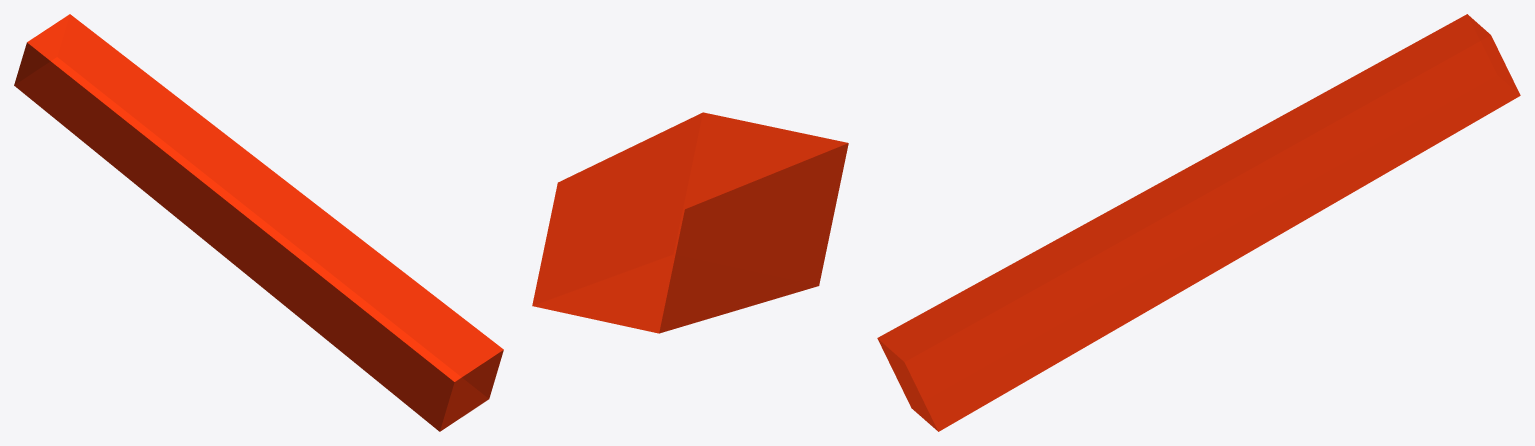
The model's file is Event_421556567_EBrechit_6.fbx.
The picture shows the model from 3 angles, left to right: view 1: azimuth 30°, elevation 25°; view 2: azimuth 150°, elevation 25°; view 3: azimuth 270°, elevation 25°; orthographic projection. The views are drawn at different scales.
Parts seen in each view (by area): view 1: Model; view 2: Model; view 3: Model.
Part boxes in pixels (bbox=[...]): Model: bbox=[14, 14, 503, 431]; Model: bbox=[532, 112, 848, 333]; Model: bbox=[877, 14, 1520, 431].
Bounding box in the file's own units: 0.2365 × 0.255 × 0.4865.
